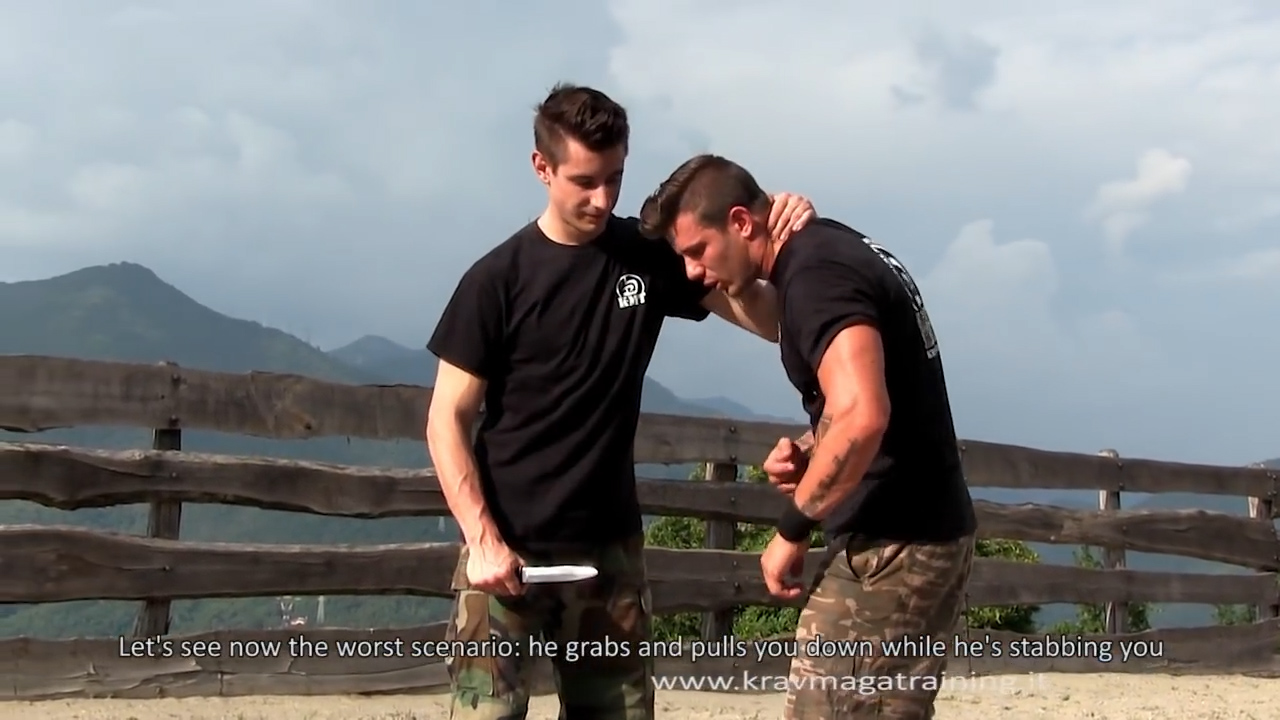knife: (468, 552, 610, 602)
